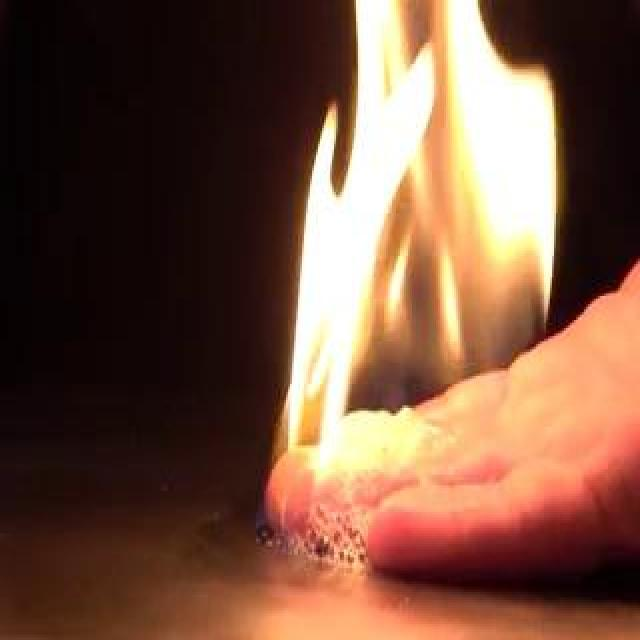Fire: (282, 3, 566, 517)
